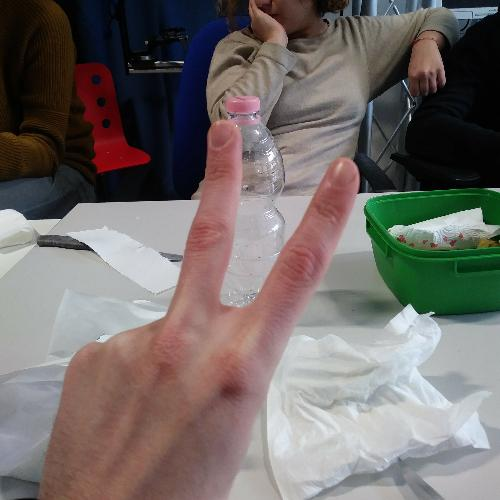scissors: (59, 119, 362, 482)
